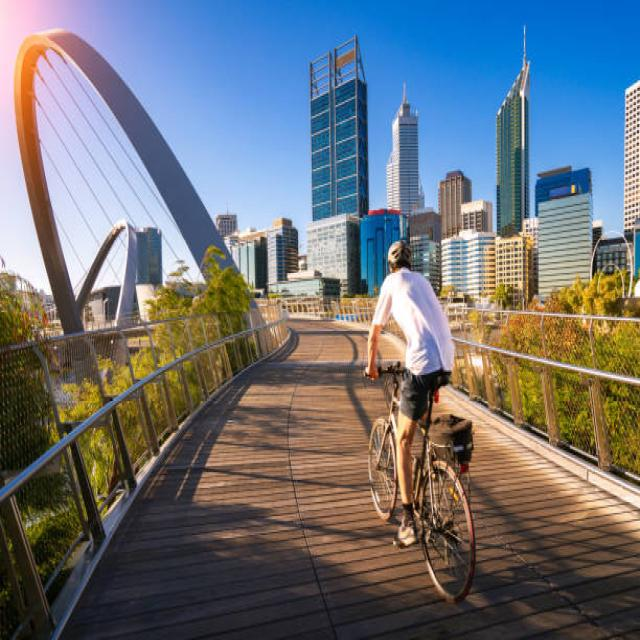bicycle: (365, 240, 475, 601)
